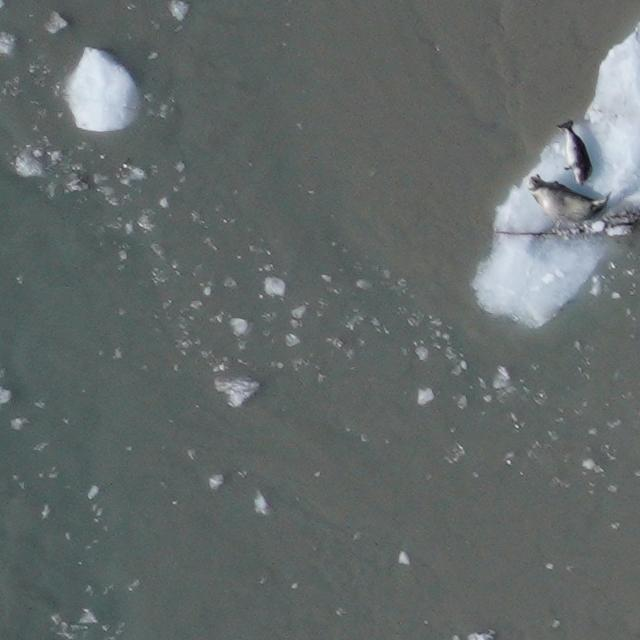seal: (519, 171, 612, 234), (549, 118, 598, 192)
